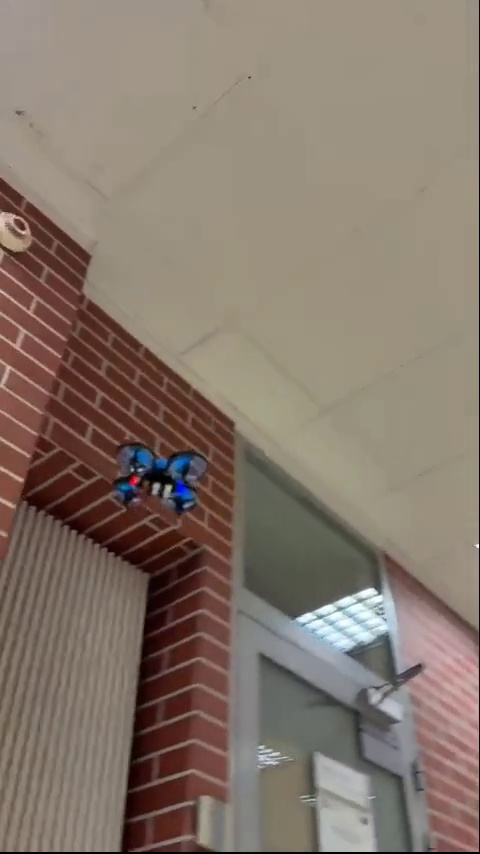drone: (114, 439, 212, 517)
